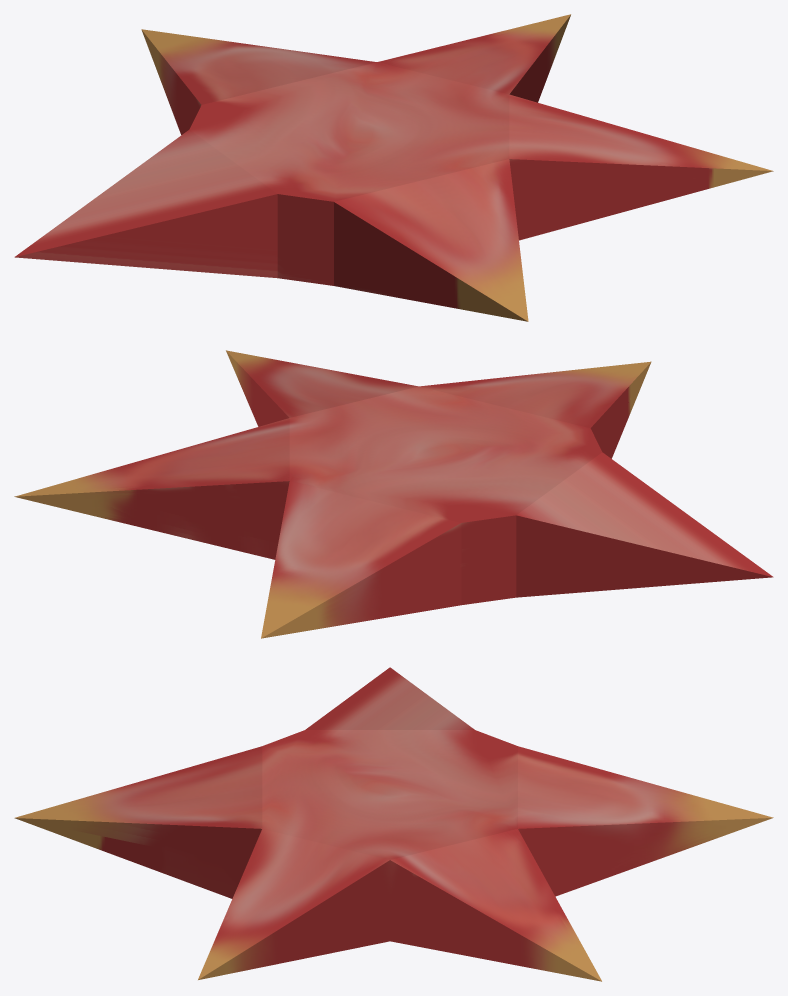
The model's file is starfish.fbx.
The picture shows the model from 3 angles, top to bottom: view 1: azimuth 30°, elevation 25°; view 2: azimuth 150°, elevation 25°; view 3: azimuth 270°, elevation 25°; orthographic projection. The views are drawn at different scales.
Parts seen in each view (by area): view 1: Cylinder; view 2: Cylinder; view 3: Cylinder.
Part boxes in pixels (x1,y1,x2,y2): Cylinder: (14, 14, 773, 321); Cylinder: (14, 350, 773, 638); Cylinder: (14, 667, 773, 981).
Bounding box in the file's own units: 127 × 15.27 × 129.
1 material, 1 textured.
